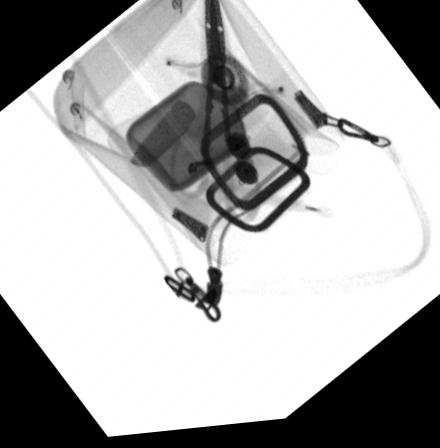Knife: (126, 102, 194, 170)
Scissors: (169, 0, 257, 234)
